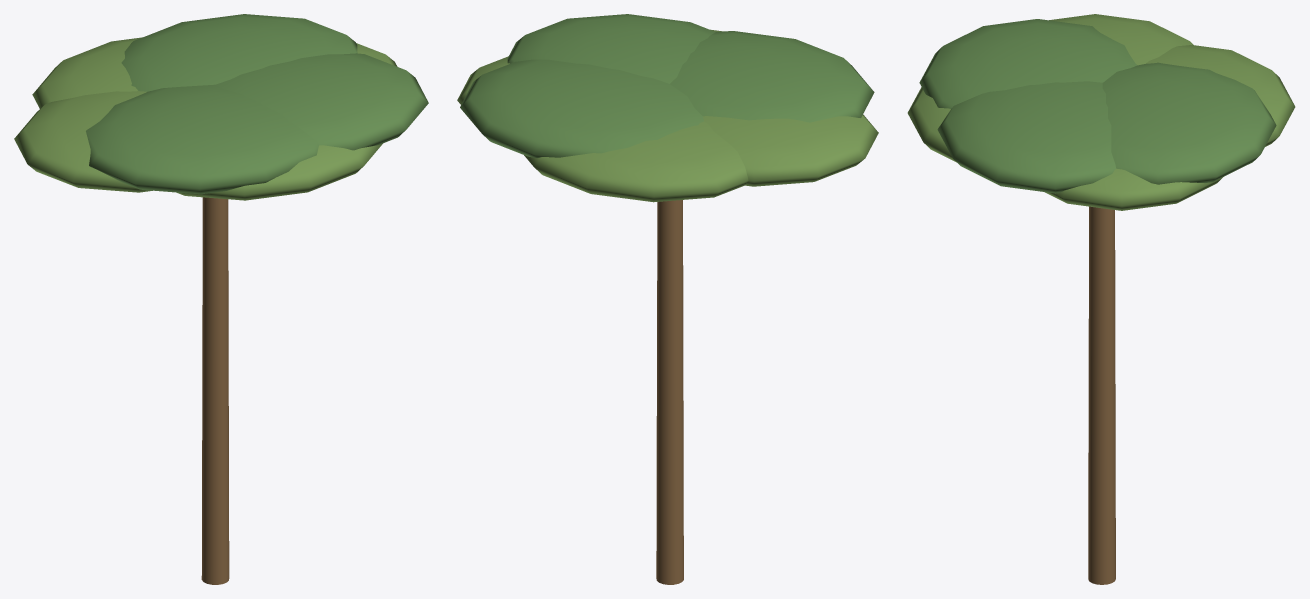
Rendered from fixture-giraffe-shade-v01.glb.
3 renders of one model, left to right at view 1: azimuth 30°, elevation 25°; view 2: azimuth 150°, elevation 25°; view 3: azimuth 270°, elevation 25°, orthographic.
Parts seen in each view (by area): view 1: merged-static (×2), post; view 2: merged-static (×2), post; view 3: merged-static (×2), post.
Part boxes in pixels (x1=…): merged-static (×2): x1=14, y1=14, x2=428, y2=200; post: x1=201, y1=197, x2=229, y2=584; merged-static (×2): x1=457, y1=14, x2=878, y2=202; post: x1=656, y1=200, x2=683, y2=584; merged-static (×2): x1=907, y1=14, x2=1295, y2=210; post: x1=1088, y1=206, x2=1115, y2=584.
Size of the model in its own units: 3.18 by 3.99 by 2.79.
